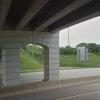Bridge: (2, 0, 91, 65)
